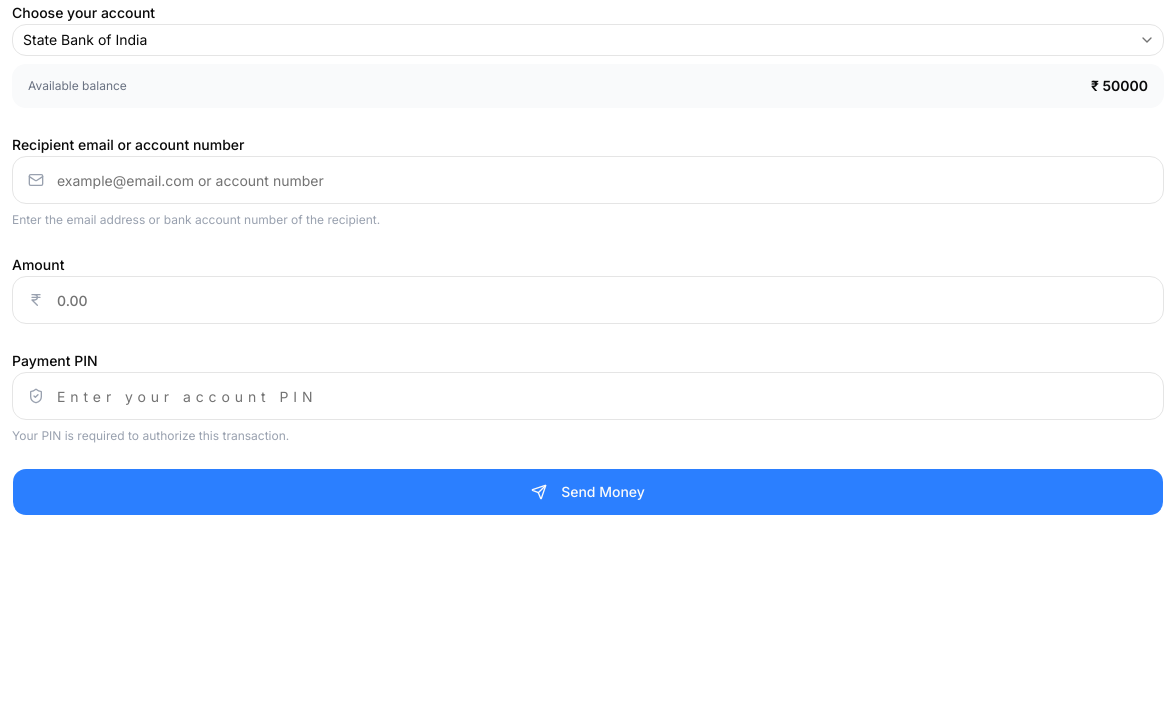
Test: PaymentTransfer › shows an error when recipient is empty
Click the button "Send Money" at (588, 492), box [12,468,1164,516]
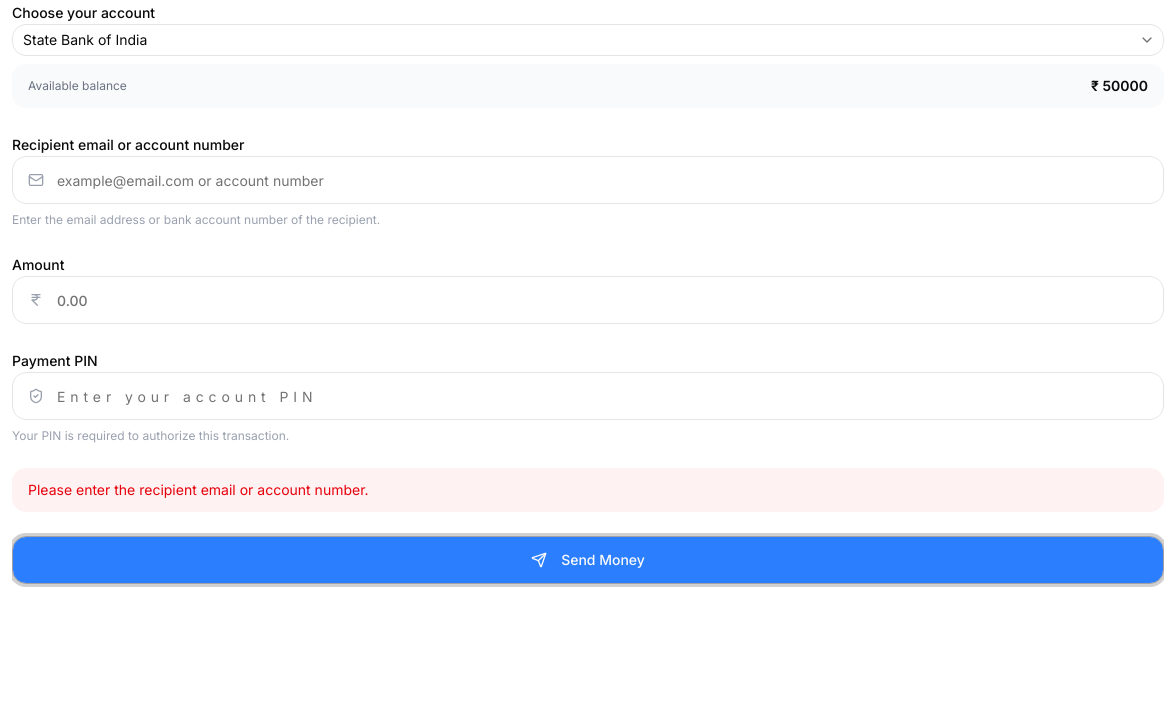
Now the text "Please enter the recipient email or account number." is shown, box [12,468,1164,512]
